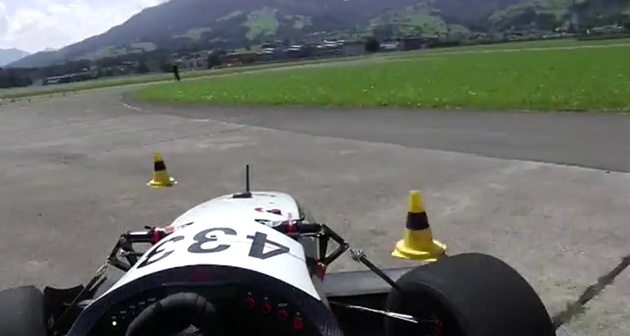Cone: (389, 188, 448, 262), (146, 149, 179, 189)
